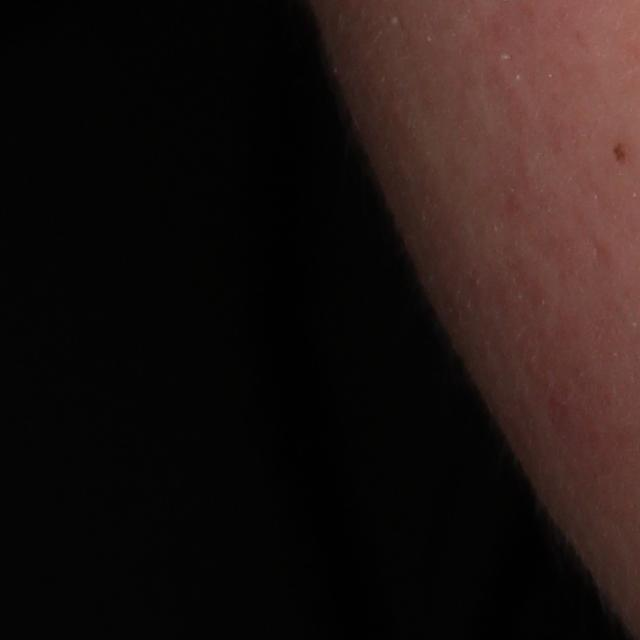nevus: (611, 136, 629, 169)
